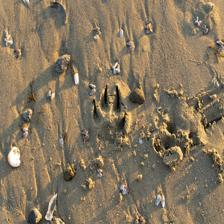dog: (89, 84, 132, 150)
